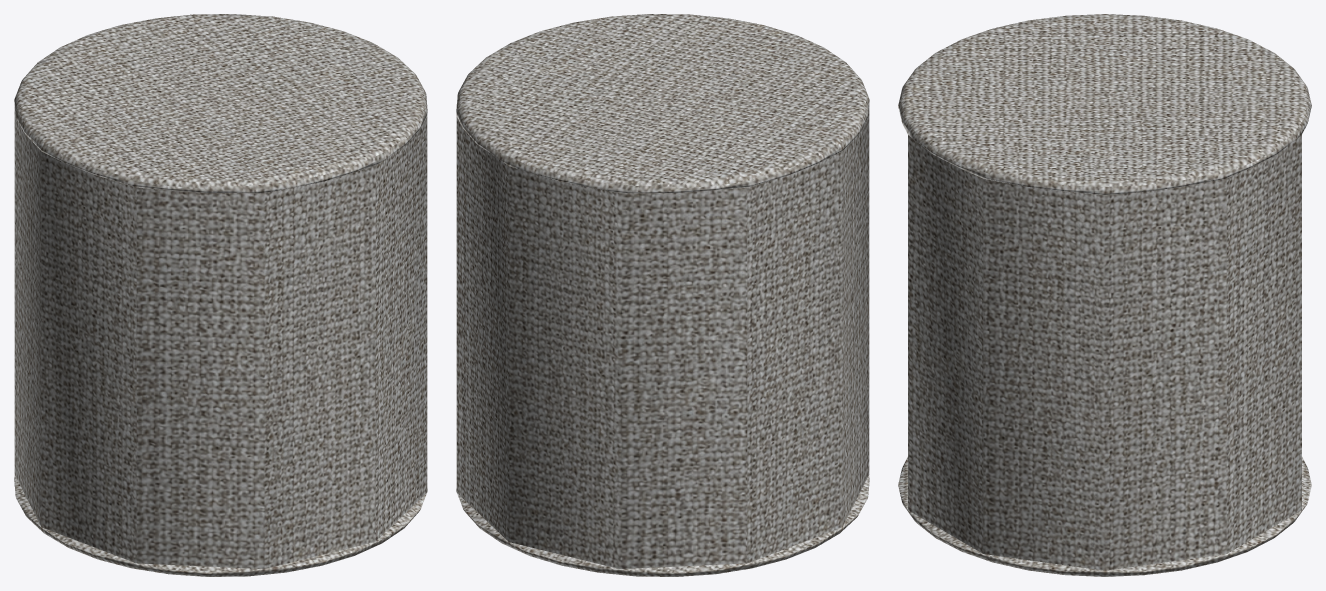
3 renders of one model, left to right at view 1: azimuth 30°, elevation 25°; view 2: azimuth 150°, elevation 25°; view 3: azimuth 270°, elevation 25°, orthographic.
Parts seen in each view (by area): view 1: 2; view 2: 2; view 3: 2.
Boxes of the visible parts, x1=… form: 2: x1=14, y1=14, x2=427, y2=576; 2: x1=456, y1=14, x2=869, y2=576; 2: x1=898, y1=14, x2=1311, y2=576.
Size of the model in its own units: 0.3801 by 0.4115 by 0.3796.
2 materials, 1 textured.
